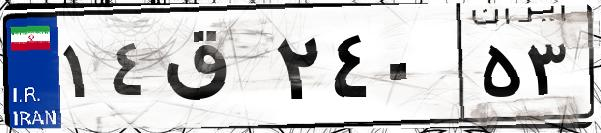0: (385, 28, 445, 110)
1: (57, 26, 110, 100)
2: (270, 28, 330, 110)
3: (525, 38, 570, 115)
4: (330, 28, 385, 110), (110, 28, 158, 98)
5: (475, 38, 525, 113)
ق: (158, 20, 270, 120)
